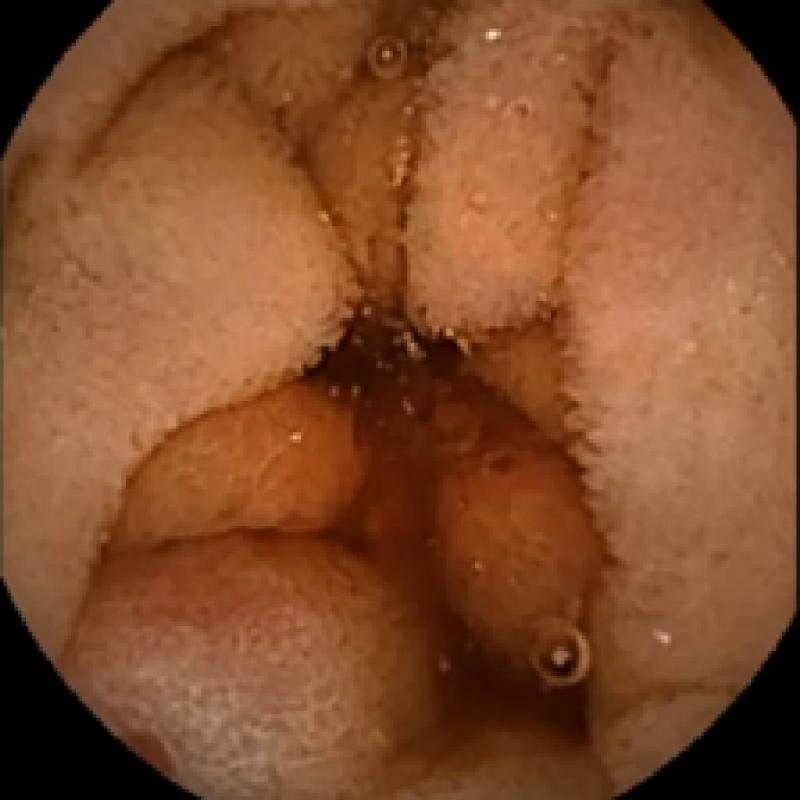bleeding: (296, 304, 593, 728)
